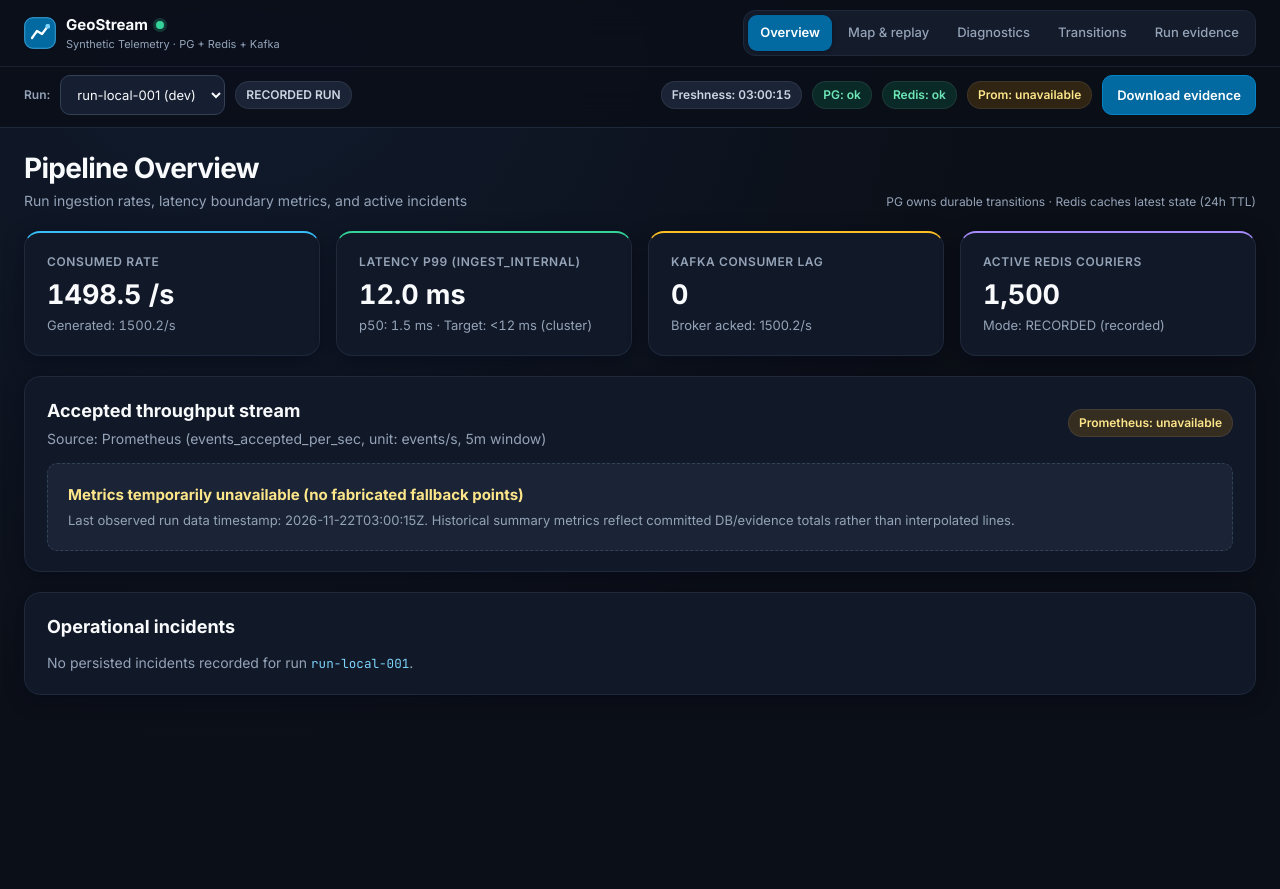
Test: GeoStream Monitoring UI › renders honest unavailable Prometheus banner, named p99 boundary, map table alternative, backpressure, and transitions inspector
Expected: the text "1498.5 /s" is shown, [47,278,174,311]
Expected: the text "Latency p99 (INGEST_INTERNAL)" is shown, [359,253,609,271]
Click the link "Map & replay" at (889, 32), box [848,24,929,40]
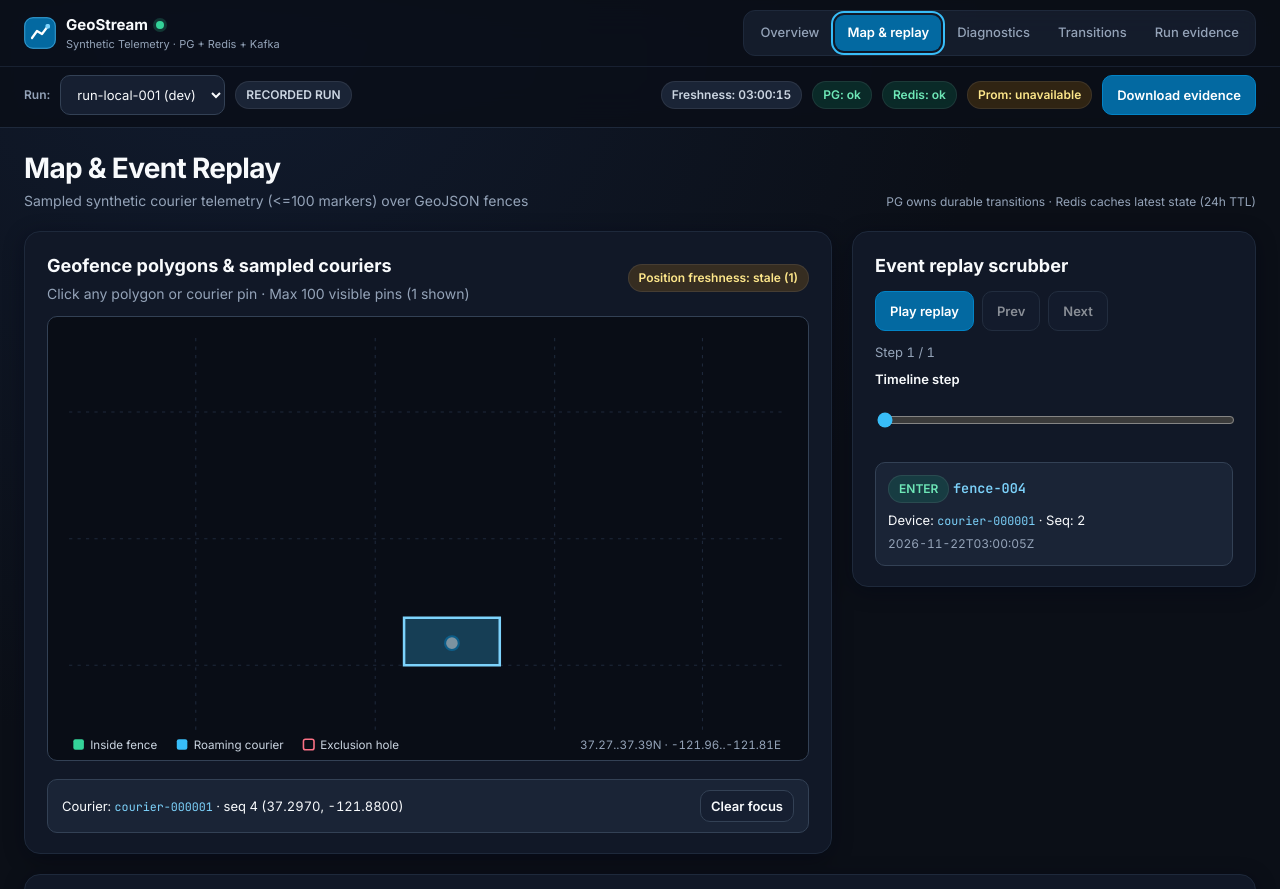
Now the text "Position freshness: stale (1)" is shown, box [628,264,809,292]
Click the link "Diagnostics" at (994, 32), box [957,24,1030,40]
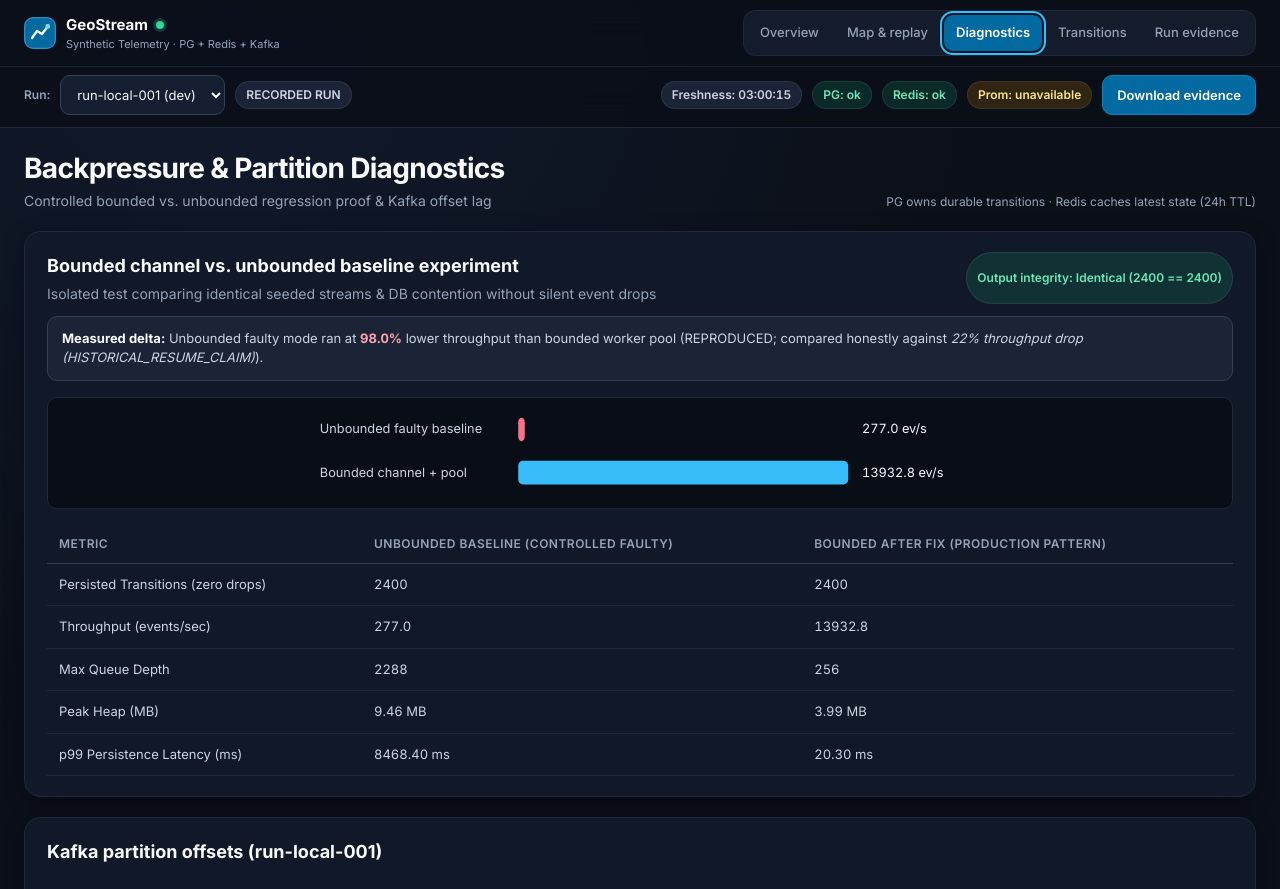
Now the text "98.0%" is shown, box [360,330,402,346]
Click the link "Transitions" at (1092, 32), box [1058,24,1127,40]
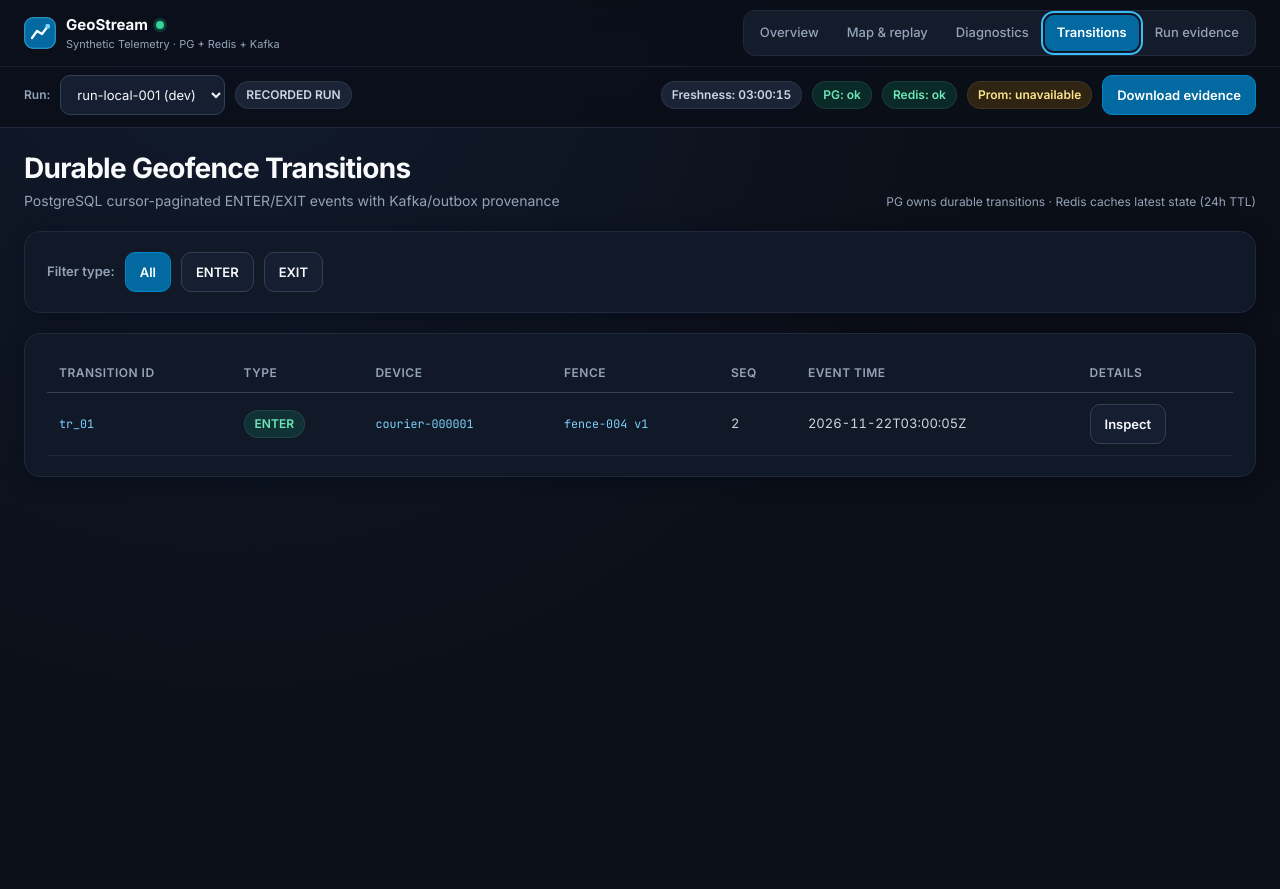
Now the button "Inspect" is shown
Click the button "Inspect" at (1128, 424), box [1090,404,1166,444]
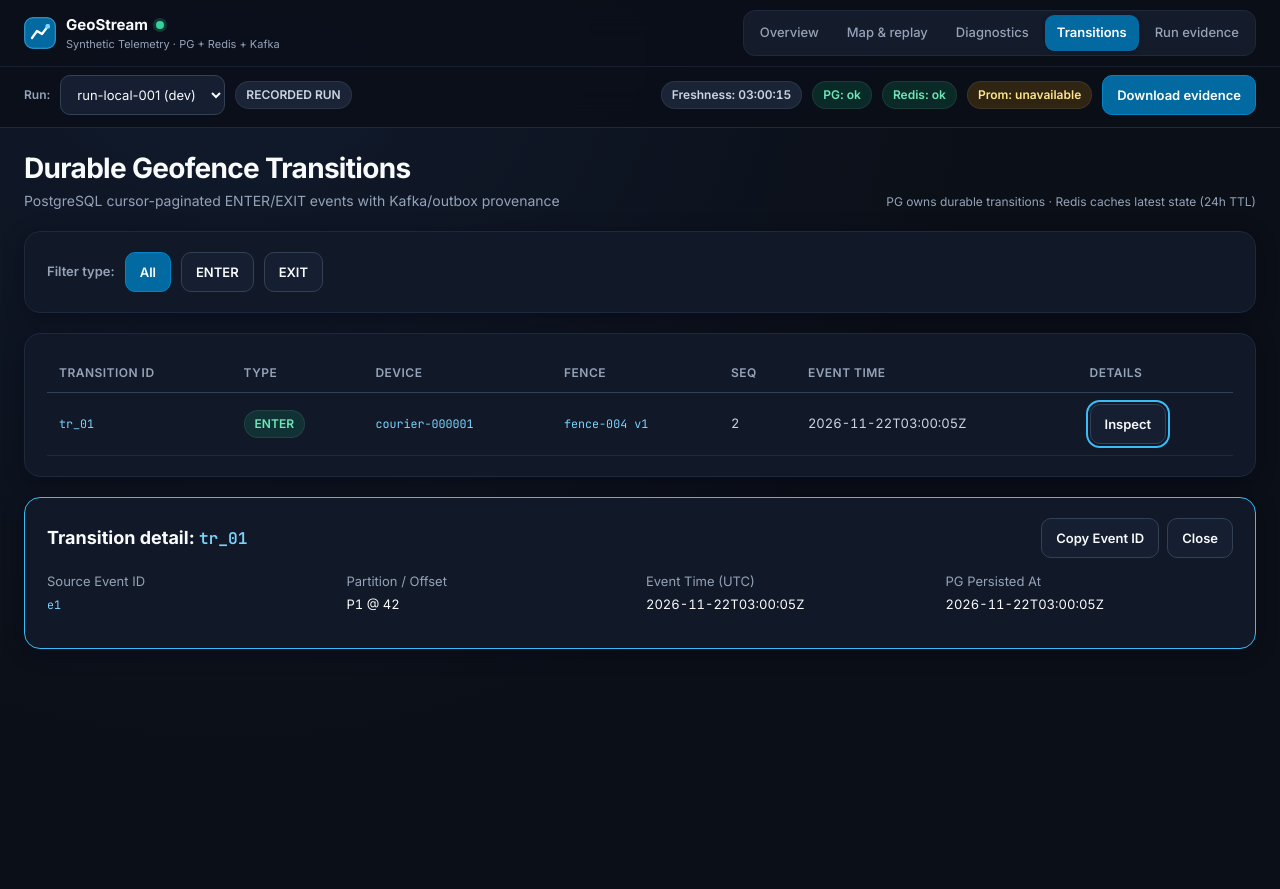
Now the text "Source Event ID" is shown, box [47,573,145,589]
Click the link "Run evidence" at (1197, 32), box [1155,24,1239,40]
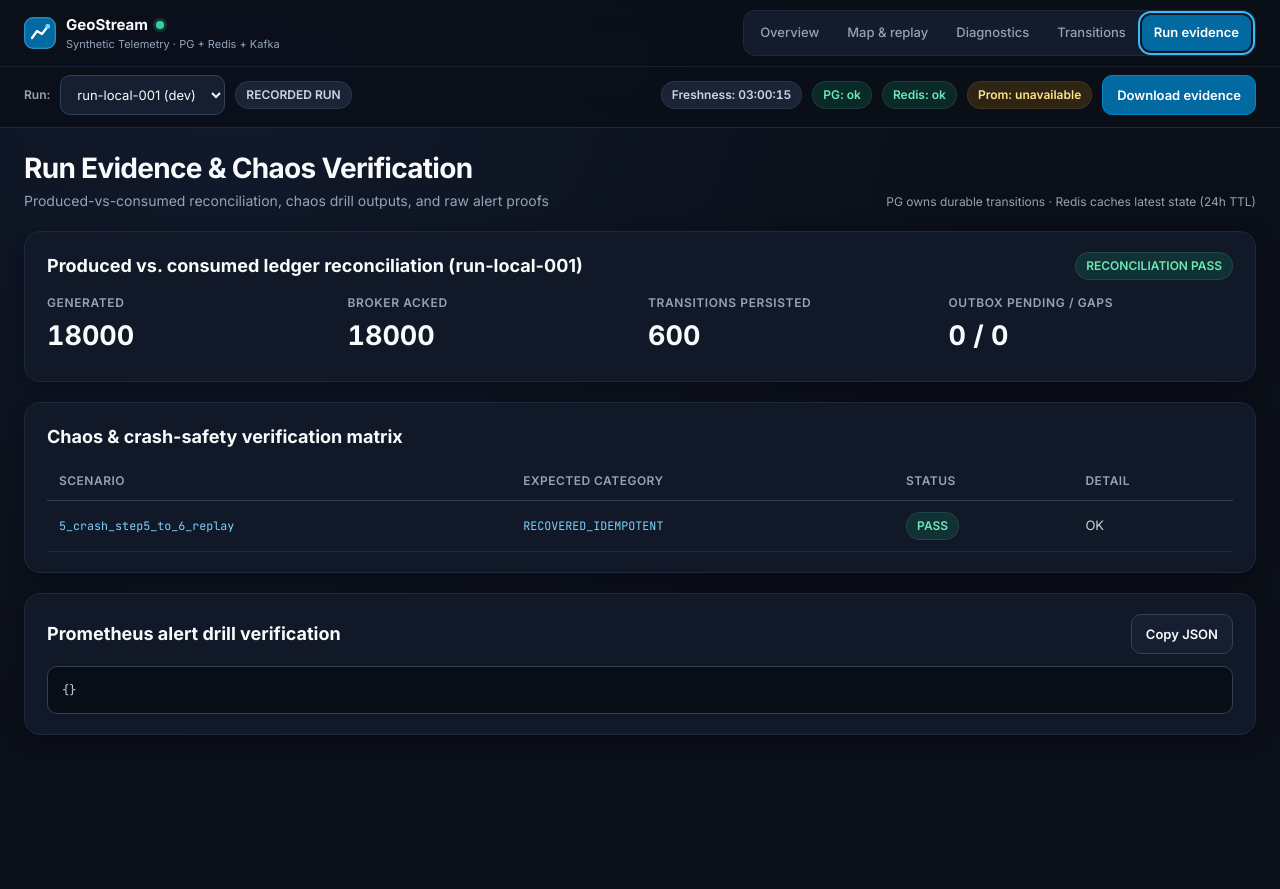
Now the text "RECONCILIATION PASS" is shown, box [1075,252,1233,280]
Now the text "5_crash_step5_to_6_replay" is shown, box [59,518,234,534]
